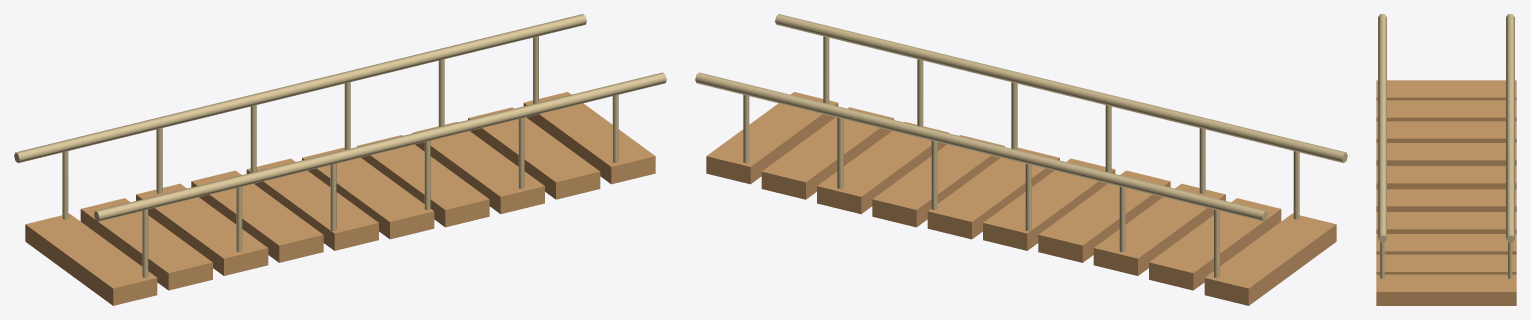
File: bridge.glb
3 views of the same model, side by side, from view 1: azimuth 30°, elevation 25°; view 2: azimuth 150°, elevation 25°; view 3: azimuth 270°, elevation 25° (orthographic). The views are drawn at different scales.
Bounding box in the file's own units: 4.1 × 0.67 × 1.1.
